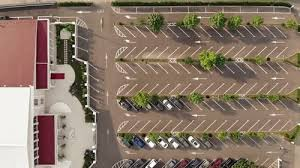car: (125, 99, 142, 111), (169, 96, 183, 109), (118, 99, 132, 111), (124, 99, 139, 110), (187, 158, 202, 167), (188, 136, 199, 148), (221, 158, 235, 167), (144, 136, 155, 147), (133, 136, 144, 147), (168, 137, 179, 148), (177, 137, 189, 147), (157, 136, 167, 148), (130, 159, 145, 167), (200, 138, 211, 148), (210, 158, 222, 167), (145, 159, 158, 167), (164, 159, 177, 167), (176, 159, 189, 167), (163, 99, 173, 109), (122, 138, 133, 147), (152, 101, 163, 110), (121, 159, 133, 167), (198, 159, 209, 167), (146, 103, 151, 109), (0, 16, 10, 19)
